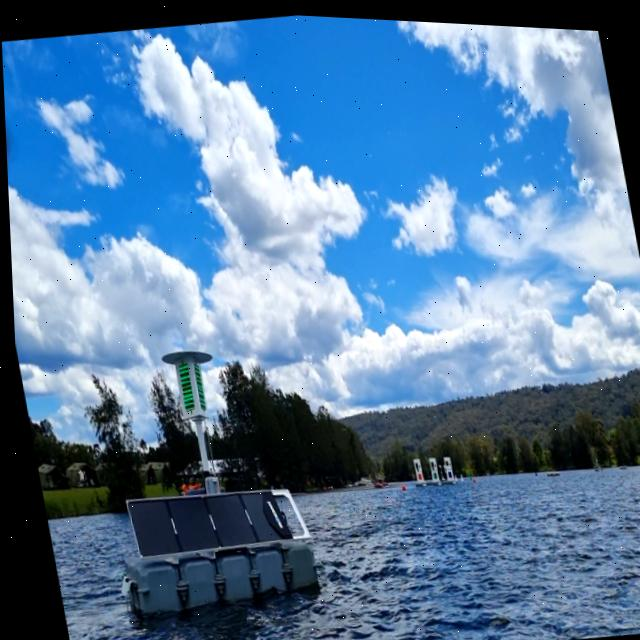led: (172, 359, 195, 411), (188, 358, 204, 411)
